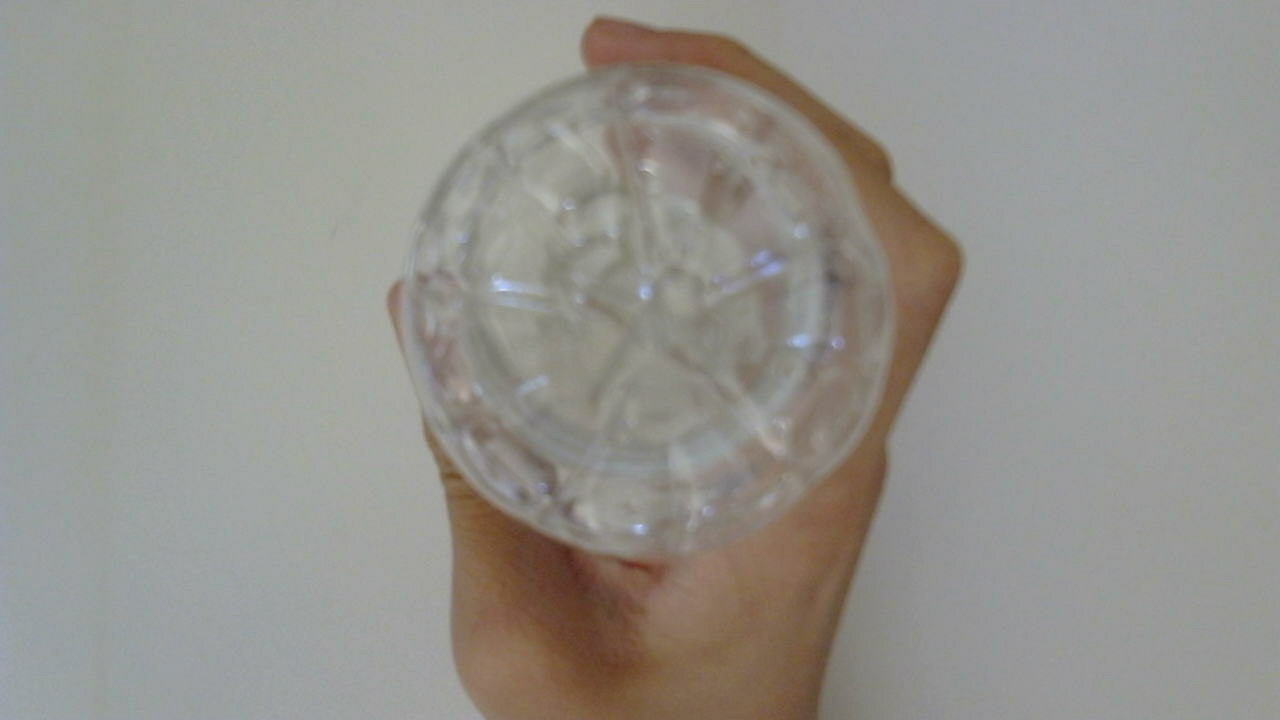Plastic Bottle: (401, 60, 905, 575)
